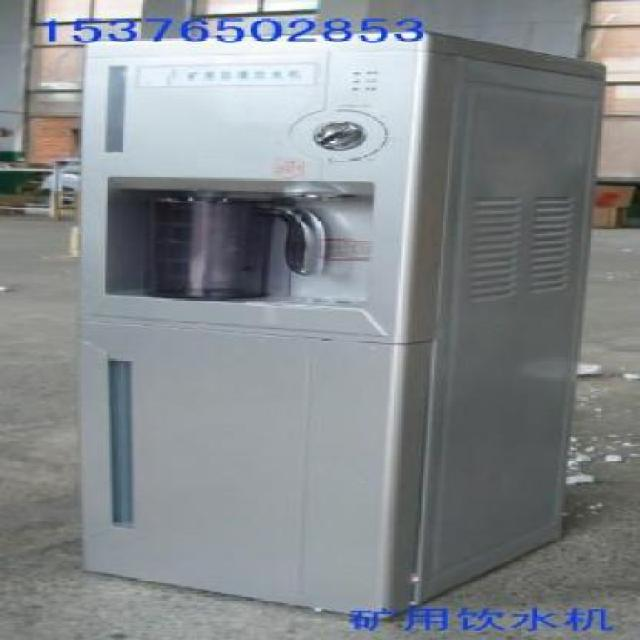cooler: (77, 29, 617, 618)
